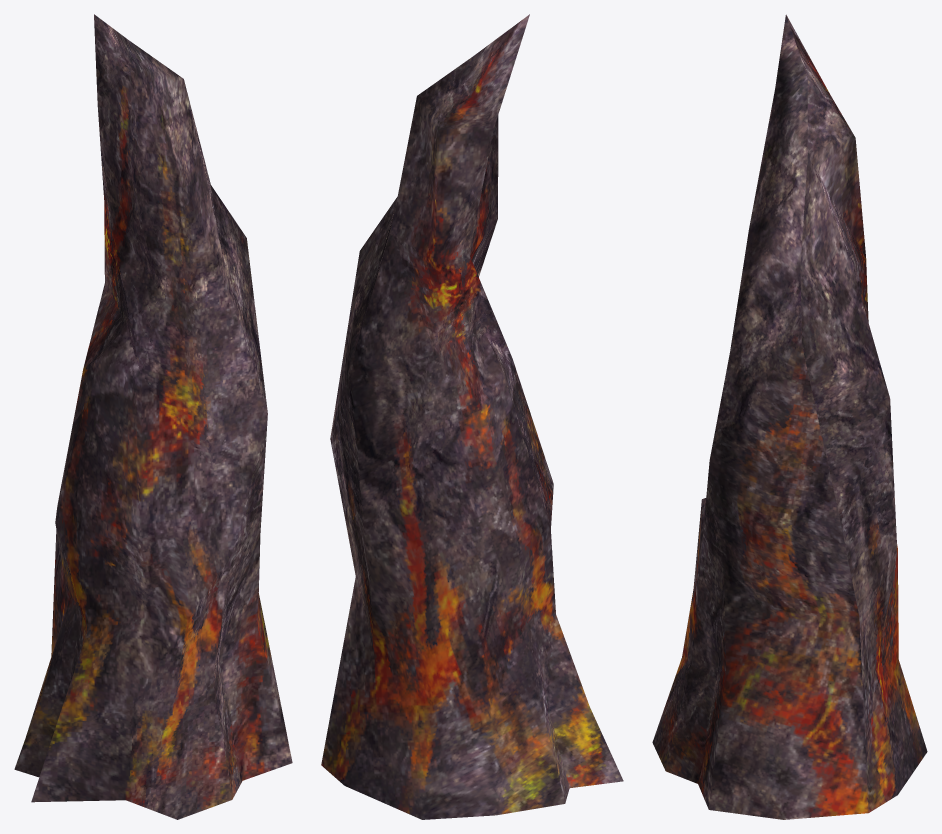
Rendered from horn03.fbx.
The picture shows the model from 3 angles, left to right: view 1: azimuth 30°, elevation 25°; view 2: azimuth 150°, elevation 25°; view 3: azimuth 270°, elevation 25°; orthographic projection. The views are drawn at different scales.
Parts seen in each view (by area): view 1: horn03; view 2: horn03; view 3: horn03.
Part boxes in pixels (x1=…): horn03: x1=14, y1=14, x2=292, y2=819; horn03: x1=321, y1=14, x2=623, y2=819; horn03: x1=652, y1=14, x2=927, y2=819.
Size of the model in its own units: 4.7 by 13.19 by 4.55.
